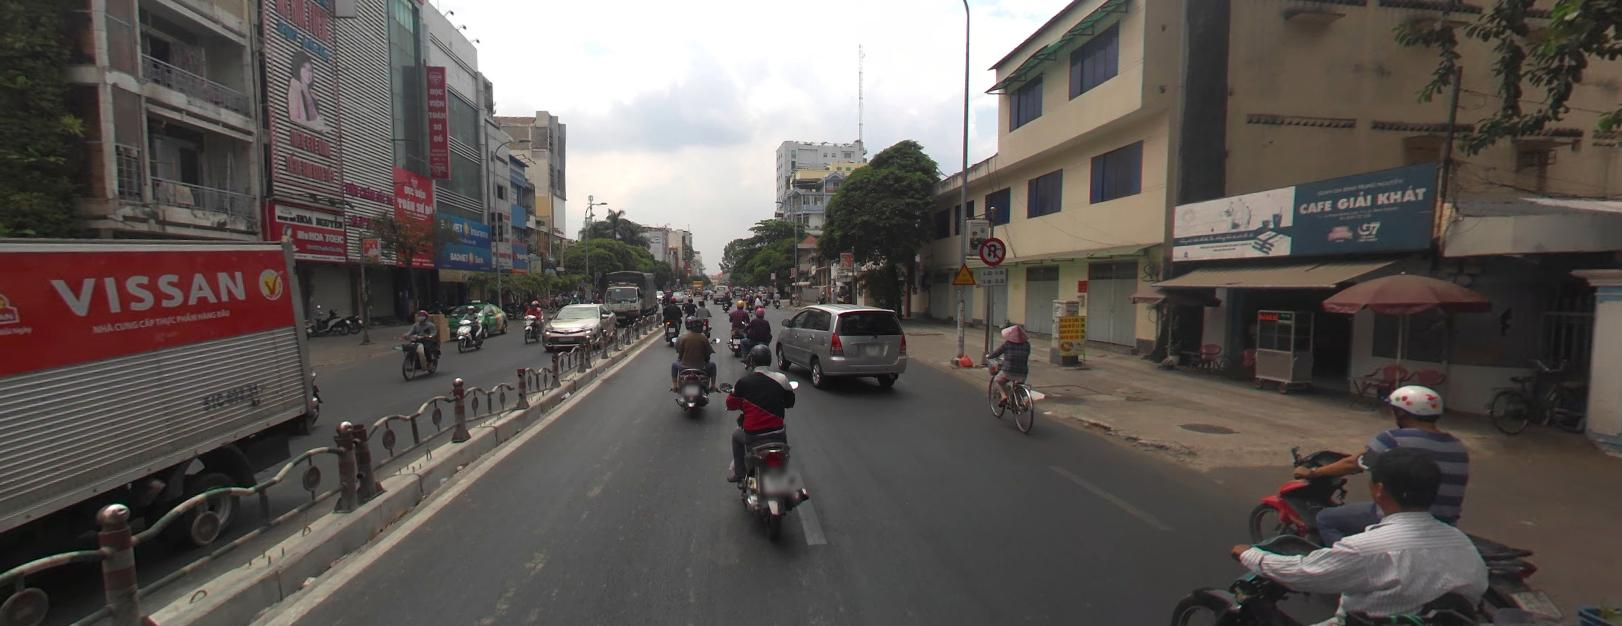Cam re: (979, 236, 1005, 264)
Nguy hiem: (951, 261, 975, 284)
